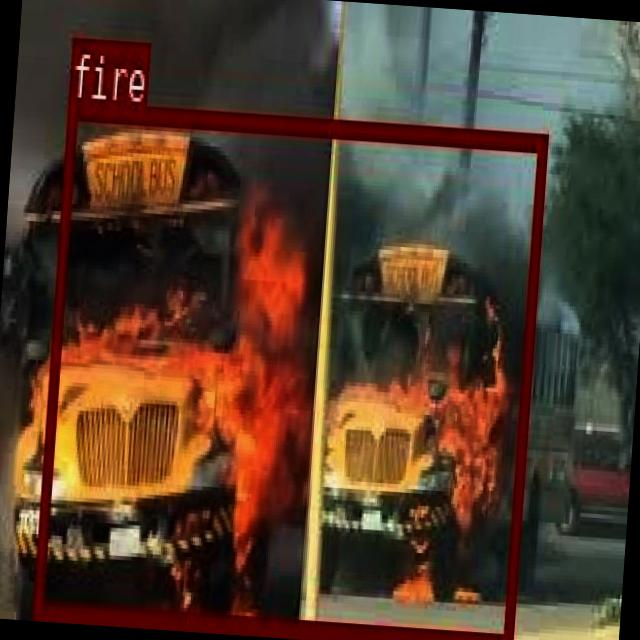fire: (32, 97, 545, 640)
